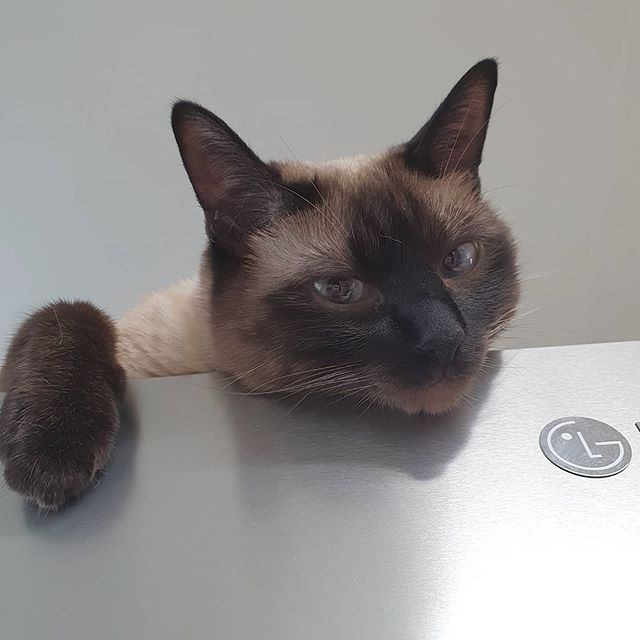cat: (161, 55, 527, 431)
